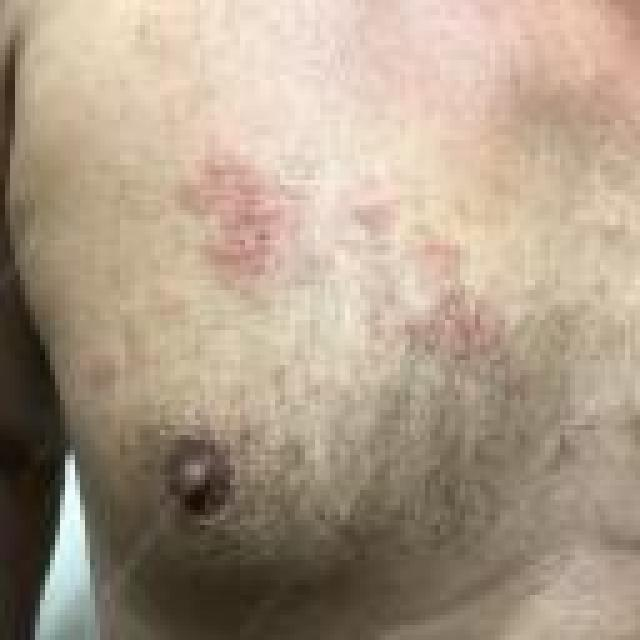Shingles: (193, 154, 277, 282)
